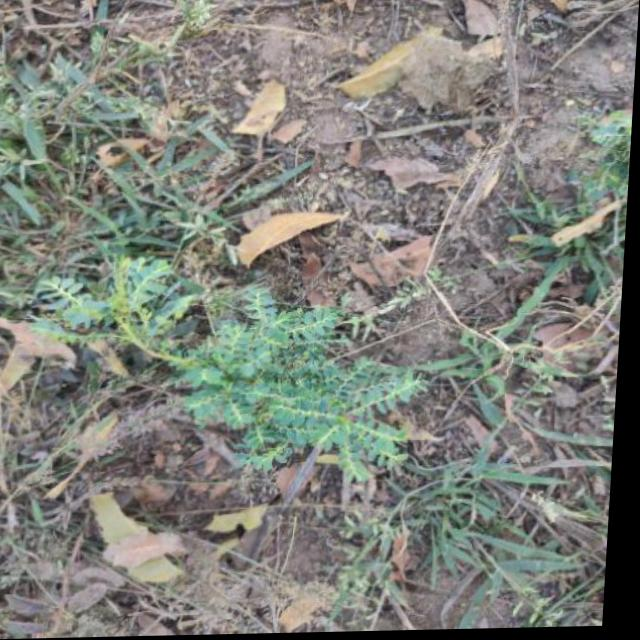weed: (43, 212, 563, 610)
